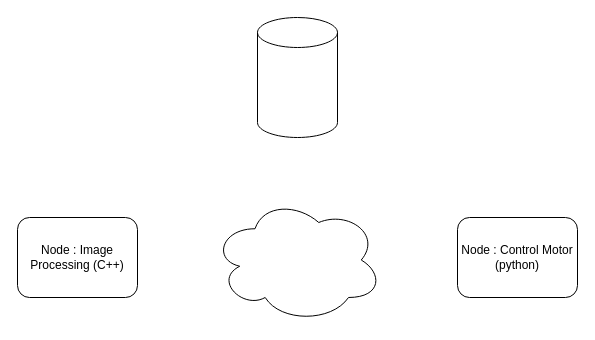
This 595x340 diagram has some shape labels left out. The shapes that lost their labels are listed below. From the top down, each one's centre as x and y in pixels, then its label:
At point 297,77: "ROS Master".
At point 297,259: "Topic - name topic - message".
